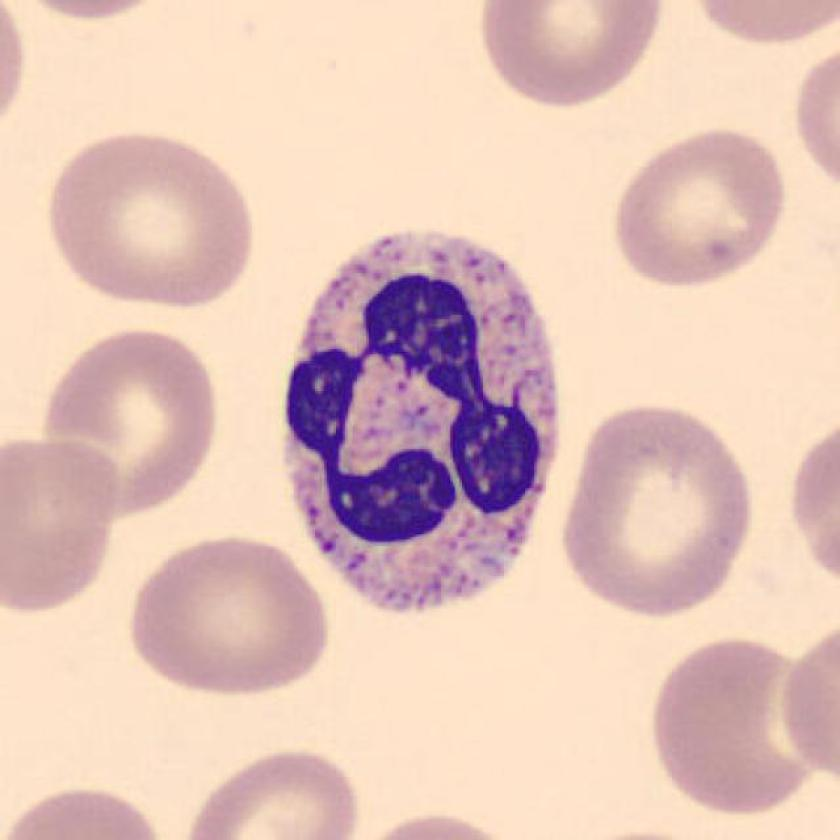neutrophil: (287, 232, 555, 609)
